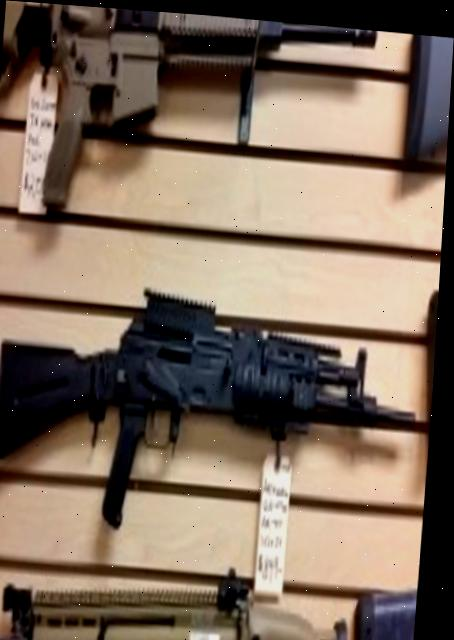rifle: (0, 261, 442, 549), (0, 549, 421, 640)
